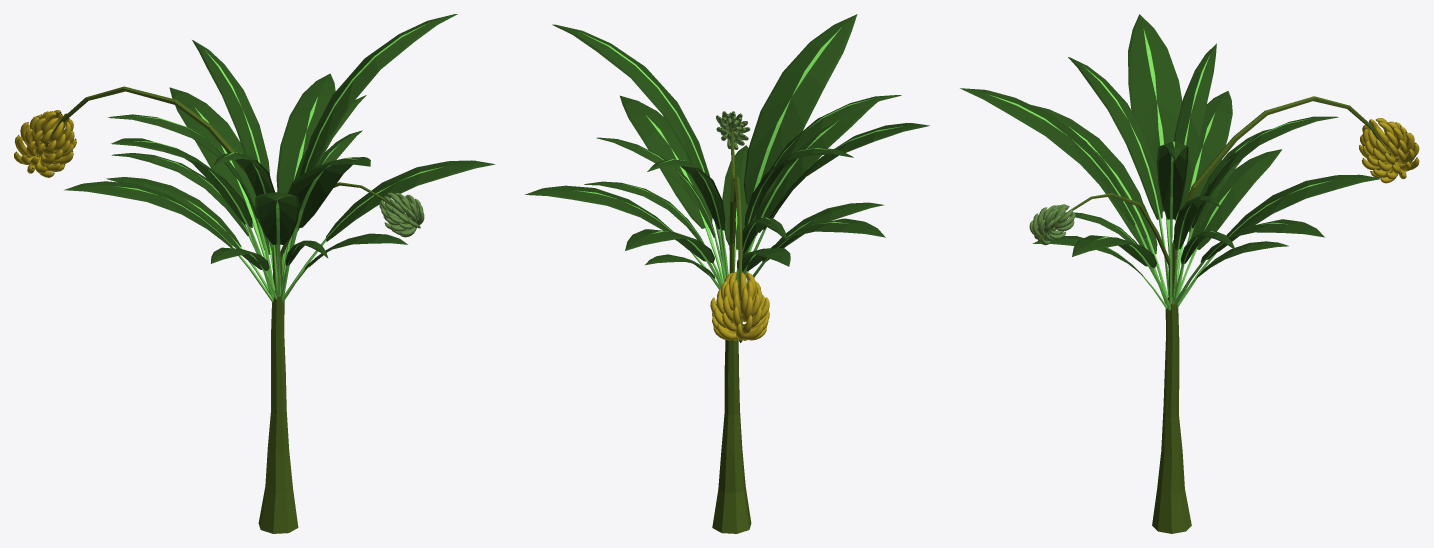
File: SM_BananaTree_002_LOD1.fbx
3 views of the same model, side by side, from view 1: azimuth 30°, elevation 25°; view 2: azimuth 150°, elevation 25°; view 3: azimuth 270°, elevation 25° (orthographic). The views are drawn at different scales.
Parts seen in each view (by area): view 1: BananaTree; view 2: BananaTree; view 3: BananaTree.
Boxes of the visible parts, box(x1,y1,x2,y2) form: BananaTree: box(14, 14, 495, 533); BananaTree: box(525, 14, 929, 533); BananaTree: box(960, 14, 1419, 533).
Bounding box in the file's own units: 335 × 407 × 376.
